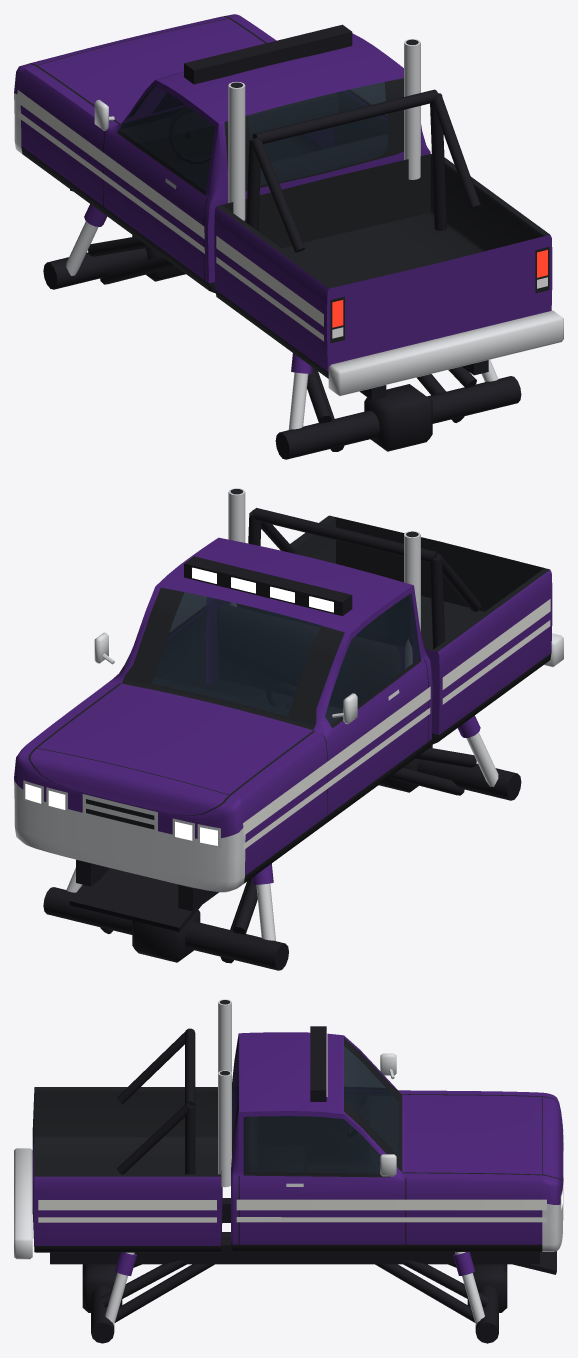
File: monster_body.glb
3 views of the same model, one above another, from view 1: azimuth 30°, elevation 25°; view 2: azimuth 150°, elevation 25°; view 3: azimuth 270°, elevation 25° (orthographic). The views are drawn at different scales.
Parts seen in each view (by area): view 1: MonsterBody, RearBumper, Stripes; view 2: MonsterBody, FrontBumper, Stripes; view 3: MonsterBody, Stripes, RearBumper, FrontBumper.
Boxes of the visible parts, x1,y1,x2,y2 form: MonsterBody: [14, 14, 552, 459]; RearBumper: [328, 310, 563, 396]; Stripes: [17, 90, 323, 341]; MonsterBody: [14, 488, 552, 970]; FrontBumper: [14, 779, 245, 892]; Stripes: [243, 599, 550, 850]; MonsterBody: [32, 999, 563, 1343]; Stripes: [38, 1199, 546, 1222]; RearBumper: [14, 1148, 32, 1259]; FrontBumper: [542, 1182, 563, 1251].
Bounding box in the file's own units: 2.1 × 2.53 × 4.72.
